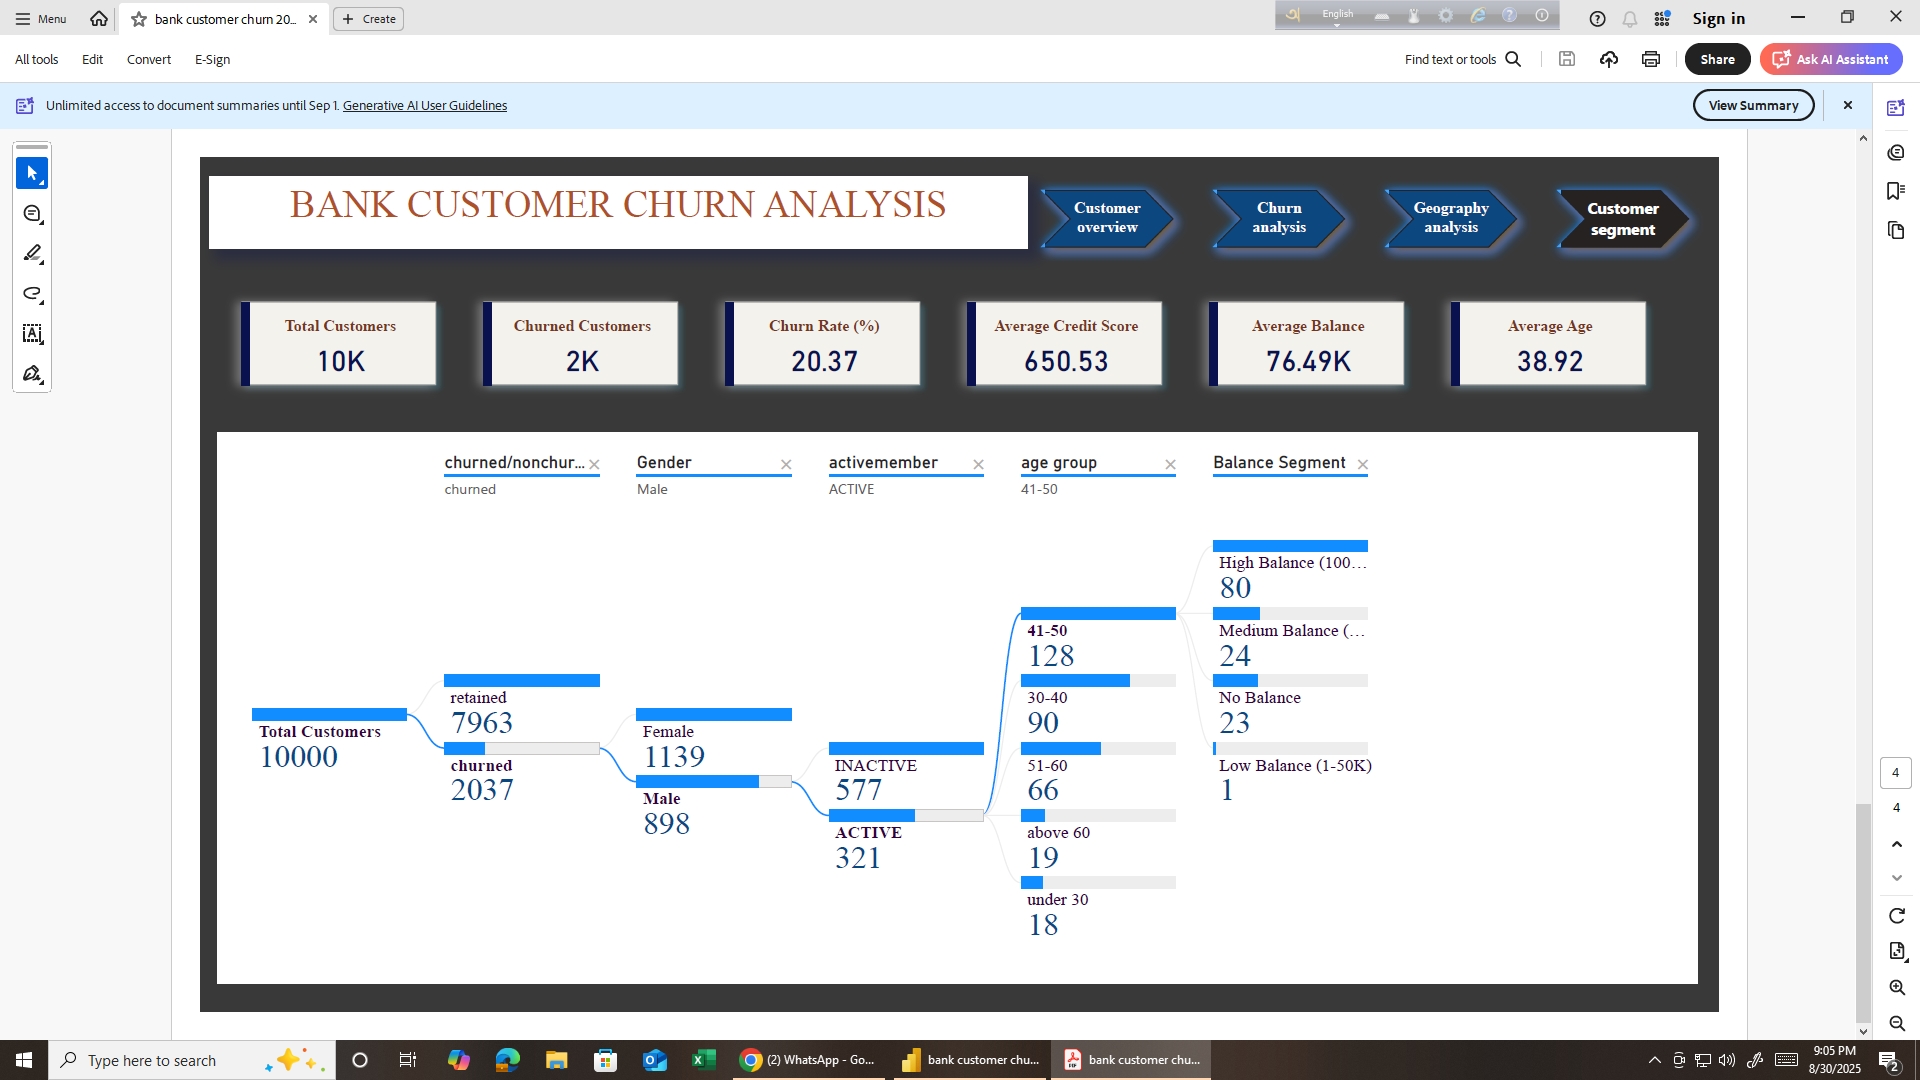

This screenshot's page, from the dashboard's own definition file:
{"tool":"powerbi","page":{"name":"Customer segment","canvas":[1280,720],"ordinal":3},"visuals":[{"type":"pageNavigator","box":[697.4,15.6,571.9,71],"z":0},{"type":"decompositionTreeVisual","fields":{"Analyze":["measure.Total Customers"],"ExplainBy":["Bank_Churn.churned/nonchurned","Bank_Churn.Gender","Bank_Churn.activemember","Bank_Churn.age group","Bank_Churn.Balance Segment"]},"box":[13.6,232.5,1247.9,464],"z":1000},{"type":"textbox","box":[7.8,15.6,689.6,61.3],"z":2000},{"type":"cardVisual","fields":{"Data":["measure.Total Customers","measure.Churned Customers","measure.Churn Rate (%)","measure.Average Credit Score","measure.Average Balance","measure.Average Age"]},"box":[13.6,101.2,1230.4,111.9],"z":3000}]}

Visuals, with their boxes on the page's 1280x720 design canvas (x1, y1, x2, y2). These are canvas units, not pixel positions in the 1920x1080 screenshot, which may show the page scaled, cropped or inside an application window:
pageNavigator: 697, 16, 1269, 87
decompositionTreeVisual - measure.Total Customers x Bank_Churn.churned/nonchurned: 14, 232, 1262, 696
textbox: 8, 16, 697, 77
cardVisual - measure.Total Customers x measure.Churned Customers: 14, 101, 1244, 213
